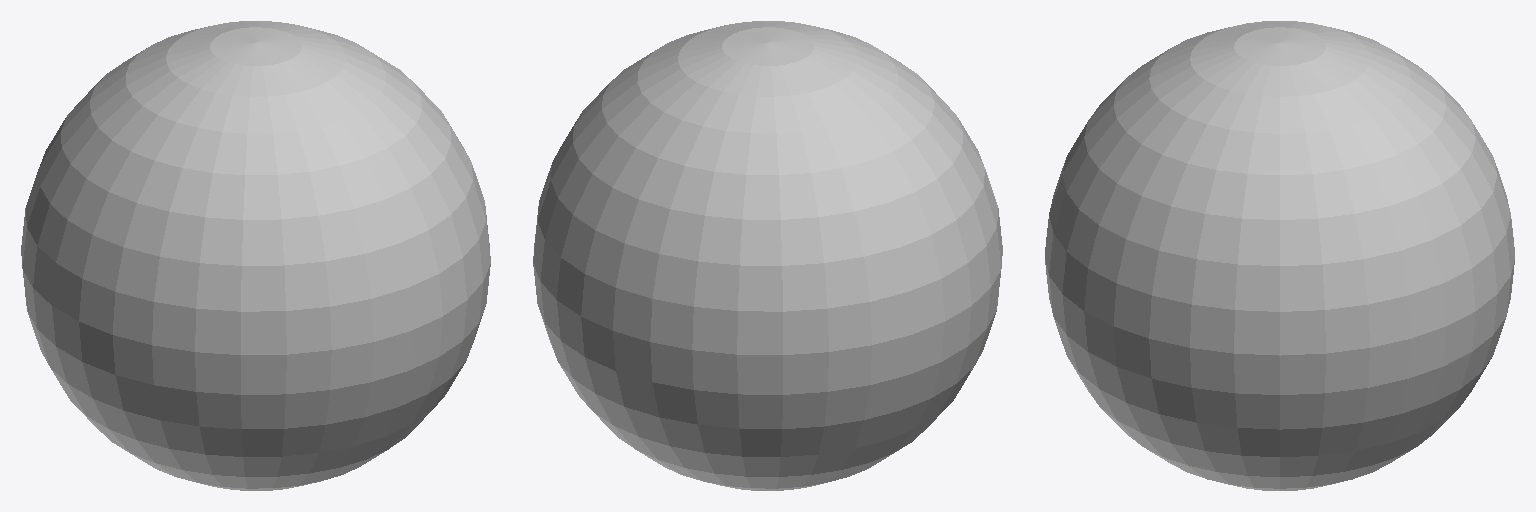
File: sky.obj
3 renders of one model, left to right at view 1: azimuth 30°, elevation 25°; view 2: azimuth 150°, elevation 25°; view 3: azimuth 270°, elevation 25°, orthographic.
Parts seen in each view (by area): view 1: 球; view 2: 球; view 3: 球.
Part boxes in pixels (x1,y1,x2,y2): 球: (21, 21, 490, 490); 球: (533, 21, 1002, 490); 球: (1045, 21, 1514, 490).
Bounding box in the file's own units: 743 × 743 × 743.